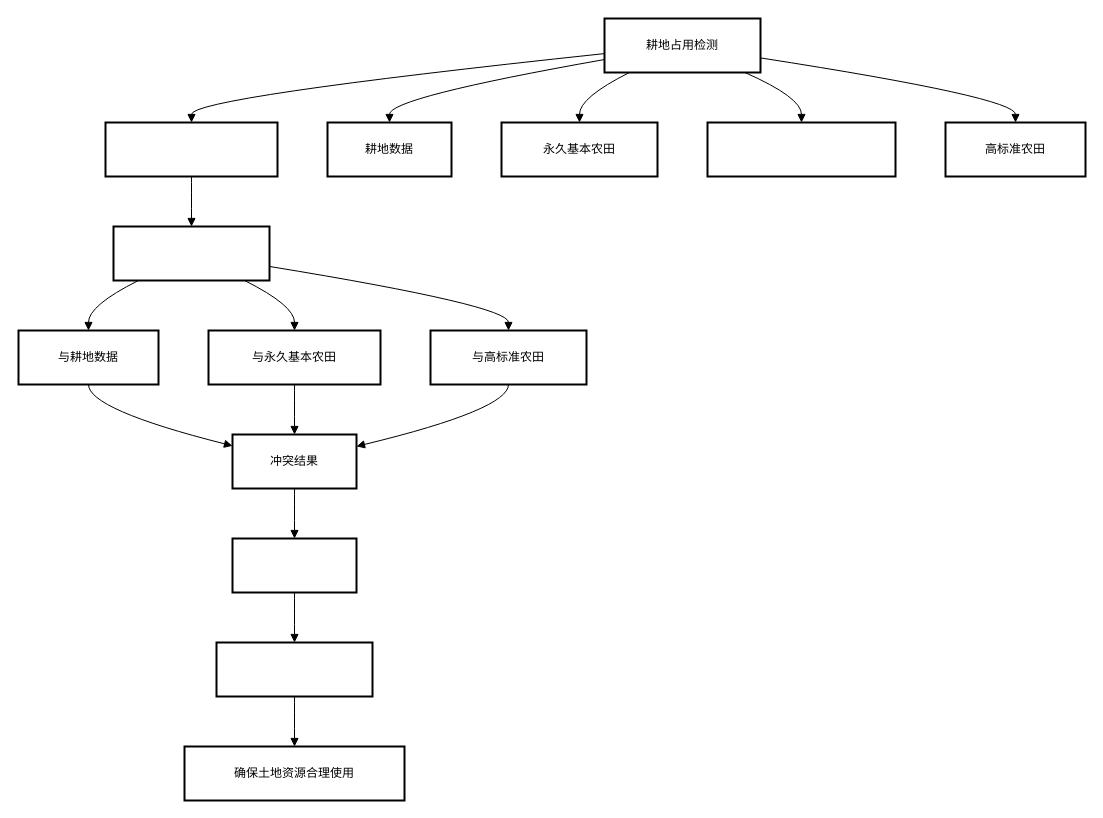
Some shapes in this 1103 by 818 pixel diagram are drawn without their labels. Here are the shapes that lost their labels. From the top down, the centre of each, then its label:
At (191,149): "判断拟用地范围".
At (801,149): "永久基本农田补划".
At (191,253): "空间冲突判断".
At (294,565): "空间分析".
At (294,669): "优化用地方案".
